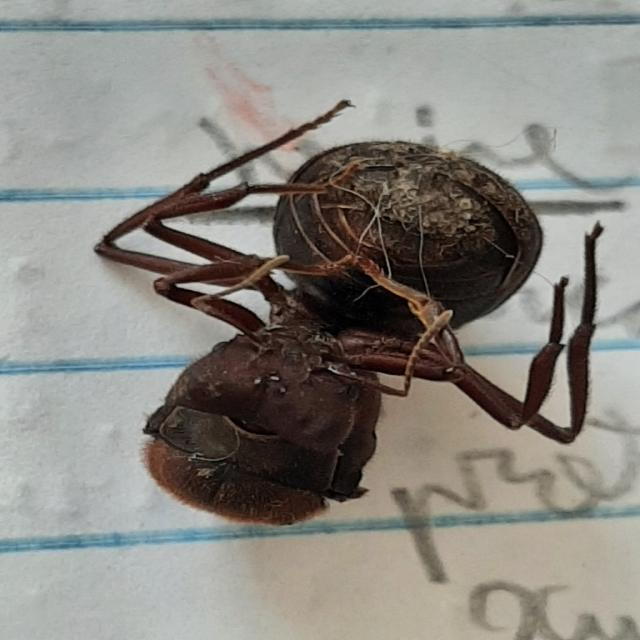Dead-Female-Dealate: (92, 98, 607, 530)
